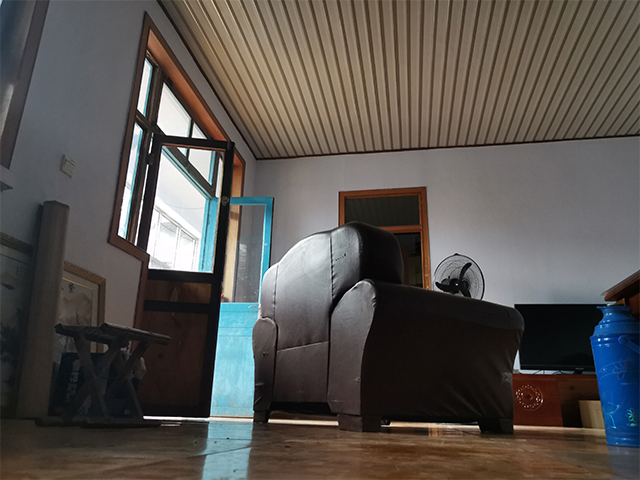sofa: (250, 219, 527, 436)
stool: (32, 321, 173, 431)
发展: (512, 370, 602, 429)
